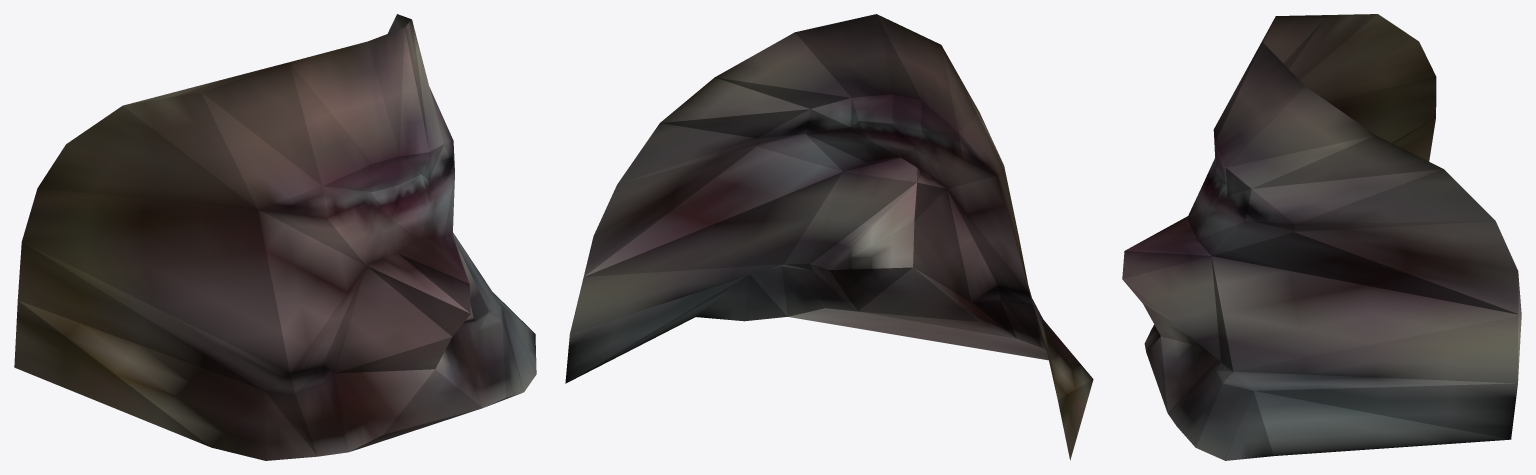
File: fake_13797.obj
3 renders of one model, left to right at view 1: azimuth 30°, elevation 25°; view 2: azimuth 150°, elevation 25°; view 3: azimuth 270°, elevation 25°, orthographic. The views are drawn at different scales.
Size of the model in its own units: 115 by 86 by 89.61.
